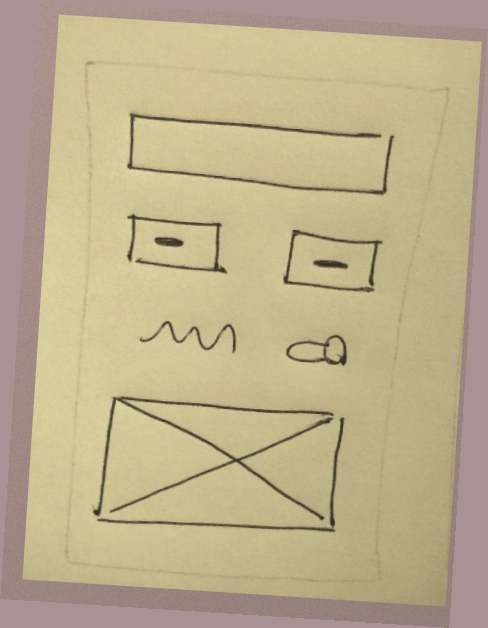button: (114, 205, 240, 287), (274, 222, 391, 303)
image: (88, 392, 354, 541)
switch: (274, 325, 361, 377)
text: (133, 307, 247, 359)
text_input: (114, 105, 399, 205)
